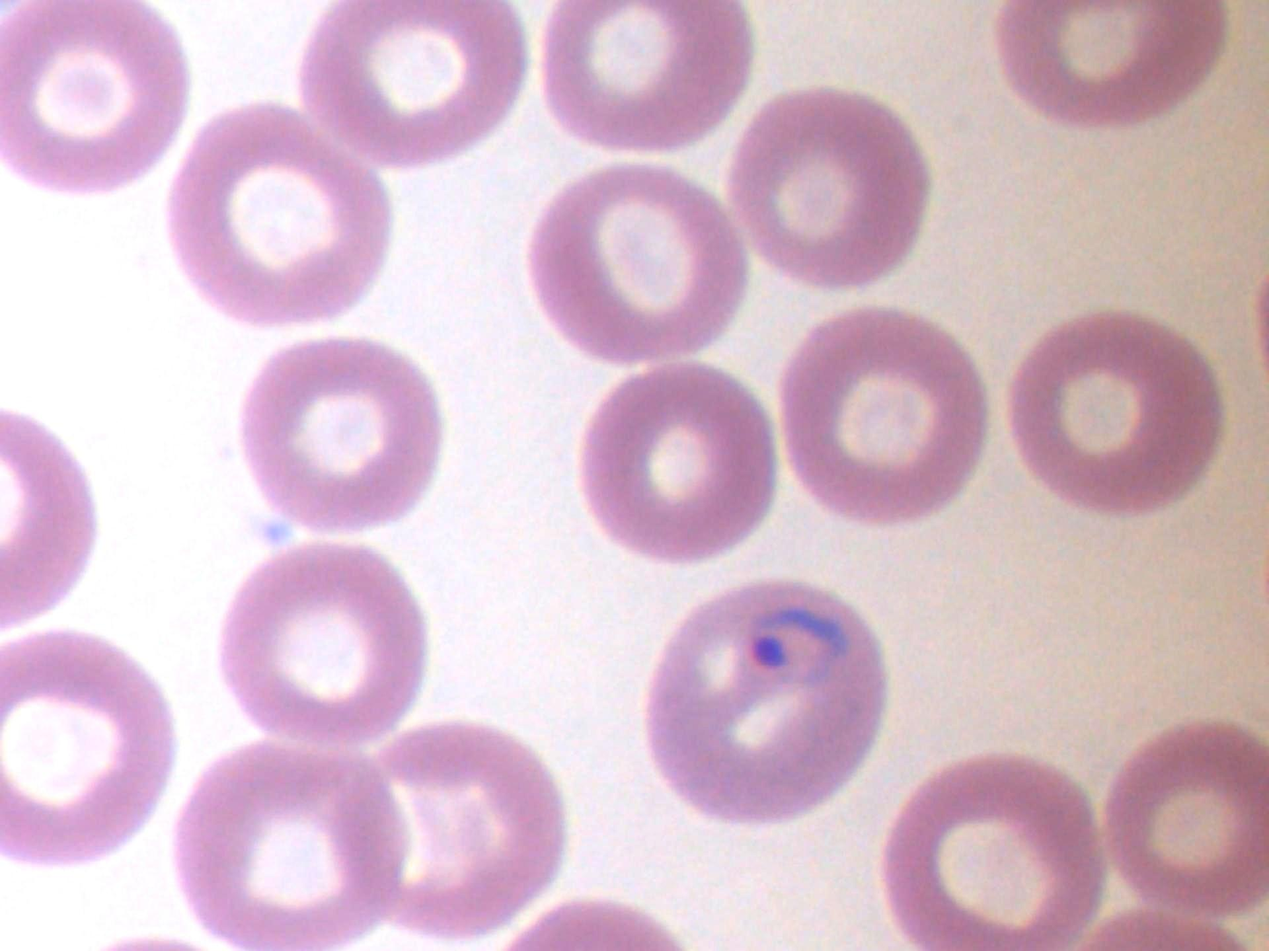Infected: (650, 573, 890, 825)
Uninfected: (172, 728, 405, 951), (163, 102, 392, 326), (776, 307, 990, 527), (883, 745, 1109, 951), (1007, 309, 1223, 520), (531, 166, 748, 367), (366, 723, 567, 938), (220, 540, 424, 747), (723, 91, 924, 295), (577, 360, 775, 564), (236, 338, 444, 530), (0, 631, 170, 862), (300, 1, 529, 167), (0, 0, 192, 193), (1104, 719, 1269, 919), (542, 1, 751, 149), (998, 0, 1223, 130)
